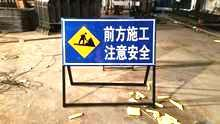sign: (62, 18, 154, 65)
